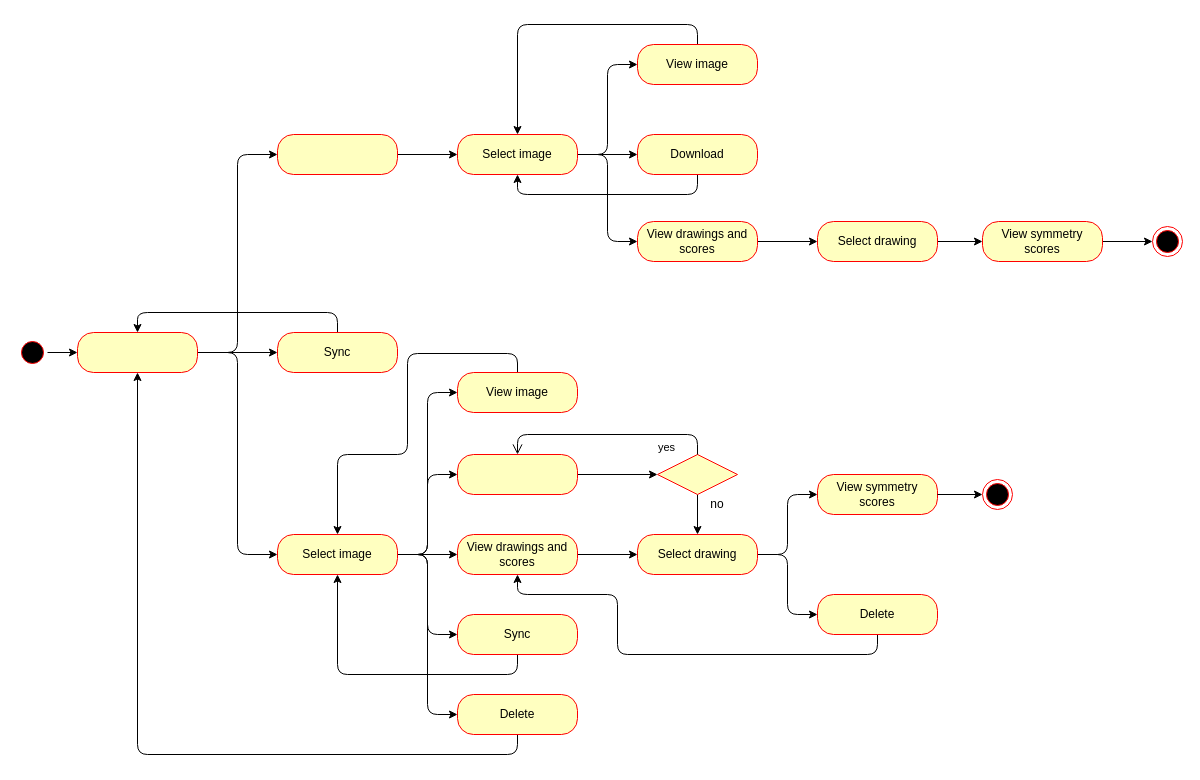
This 1200x780 diagram has some shape labels left out. The shapes that lost their labels are listed below. From the top down, each one's box as (x1, y1, x2, y2) in pixels, then its label:
(276, 134, 398, 174): Cloud
(76, 332, 198, 372): Local
(456, 454, 578, 494): Create drawing
(656, 454, 738, 494): Redraw
